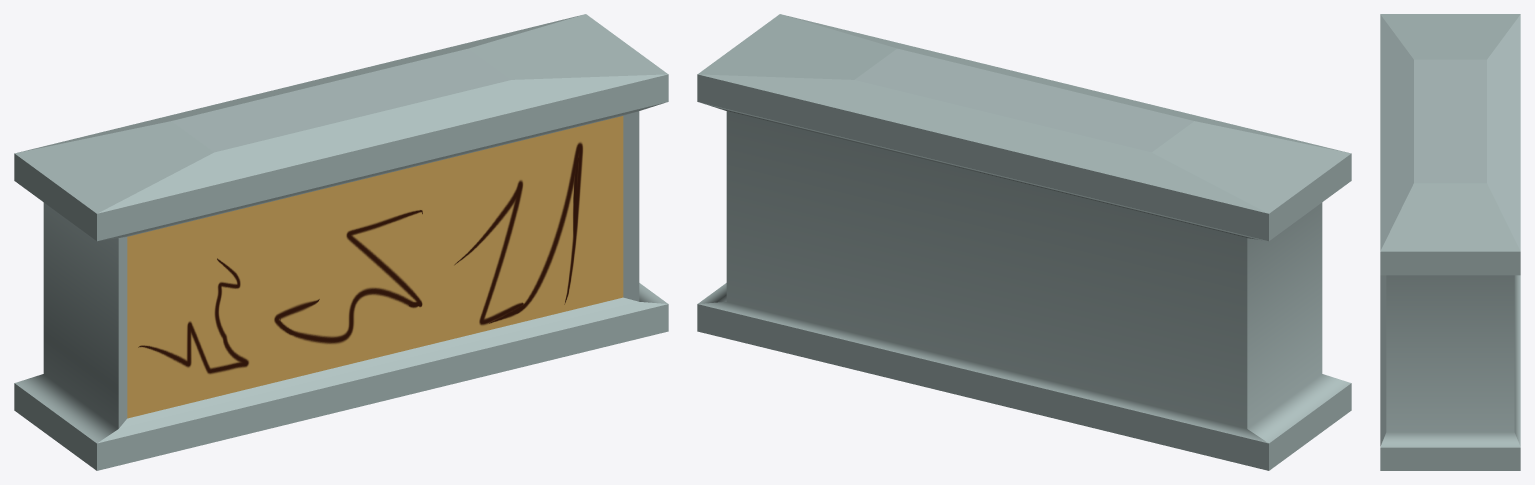
Rendered from Good Seal.fbx.
The picture shows the model from 3 angles, left to right: view 1: azimuth 30°, elevation 25°; view 2: azimuth 150°, elevation 25°; view 3: azimuth 270°, elevation 25°; orthographic projection. The views are drawn at different scales.
Visible parts, largest first — view 1: pCube1; view 2: pCube1; view 3: pCube1.
Part boxes in pixels (box(x1,y1,x2,y2)): pCube1: box(14, 14, 668, 470); pCube1: box(697, 14, 1351, 470); pCube1: box(1380, 14, 1520, 470).
Size of the model in its own units: 21.95 by 10.42 by 5.49.
2 materials, 2 textured.
